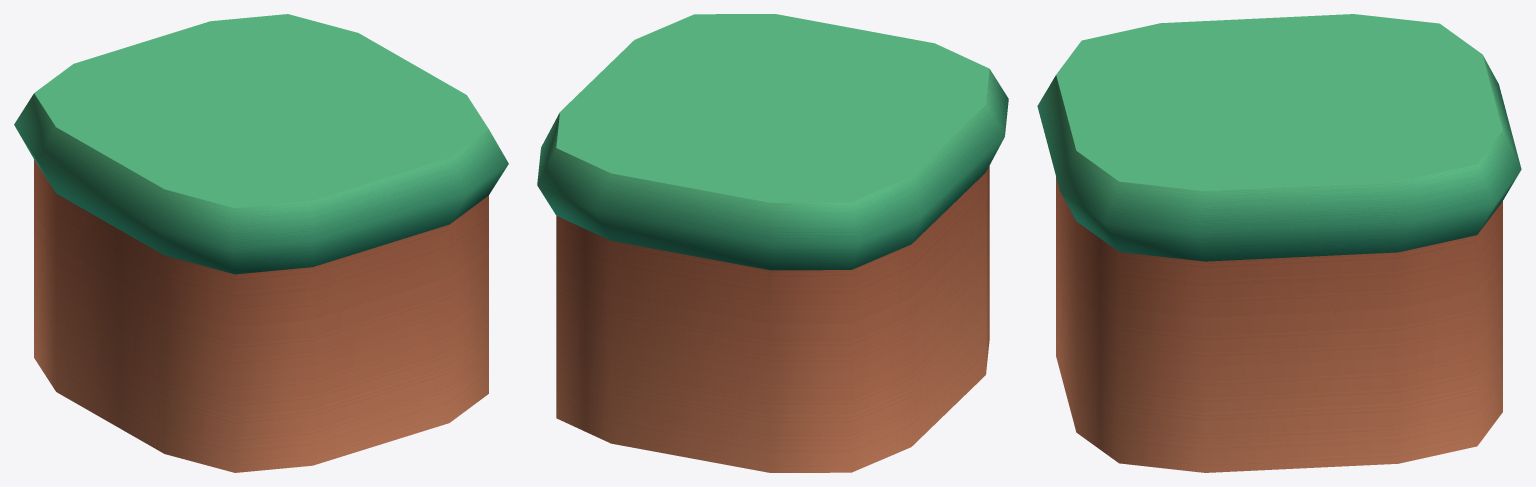
File: block-grass_lev2.glb
The picture shows the model from 3 angles, left to right: view 1: azimuth 30°, elevation 25°; view 2: azimuth 150°, elevation 25°; view 3: azimuth 270°, elevation 25°; orthographic projection. The views are drawn at different scales.
Visible parts, largest first — view 1: block-grass_lev2; view 2: block-grass_lev2; view 3: block-grass_lev2.
Part boxes in pixels (left/top/right/bottom): block-grass_lev2: left=14, top=14, right=508, bottom=472; block-grass_lev2: left=537, top=14, right=1008, bottom=472; block-grass_lev2: left=1037, top=14, right=1521, bottom=472.
Bounding box in the file's own units: 6.38 × 4.37 × 6.8.
Materials: 1 (1 with a texture image).
